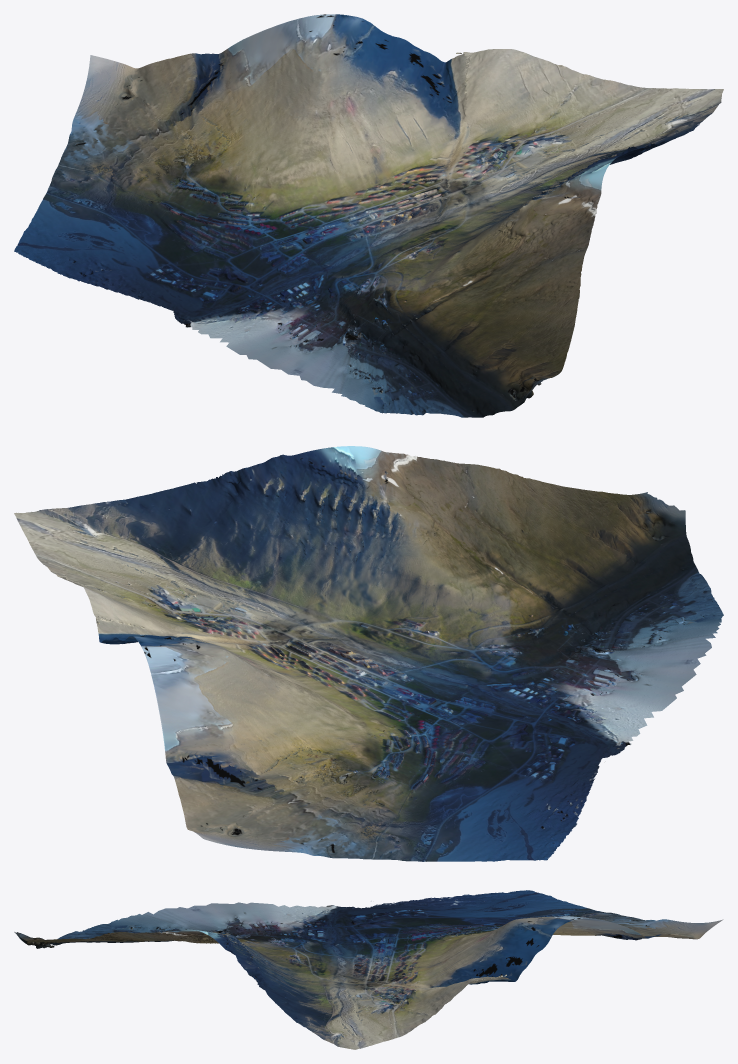
The model's file is longyearbyen_svalbard_-_drone_3d_scan.glb.
3 views of the same model, one above another, from view 1: azimuth 30°, elevation 25°; view 2: azimuth 150°, elevation 25°; view 3: azimuth 270°, elevation 25° (orthographic). The views are drawn at different scales.
Parts seen in each view (by area): view 1: Object_2, Object_4, Object_3, Object_5; view 2: Object_2, Object_3, Object_4, Object_5; view 3: Object_2, Object_4, Object_3, Object_5.
Part boxes in pixels (box(x1,y1,x2,y2)): Object_2: box(26, 14, 723, 417); Object_4: box(14, 14, 720, 416); Object_3: box(16, 193, 579, 417); Object_5: box(40, 93, 687, 392); Object_2: box(14, 473, 717, 861); Object_3: box(294, 476, 717, 861); Object_4: box(36, 446, 723, 860); Object_5: box(137, 457, 684, 860); Object_2: box(25, 892, 723, 1049); Object_4: box(14, 890, 696, 1046); Object_3: box(29, 890, 582, 986); Object_5: box(53, 901, 640, 1024).
Size of the model in its own units: 242 by 53.73 by 308.
Materials: 2 (2 with a texture image).
